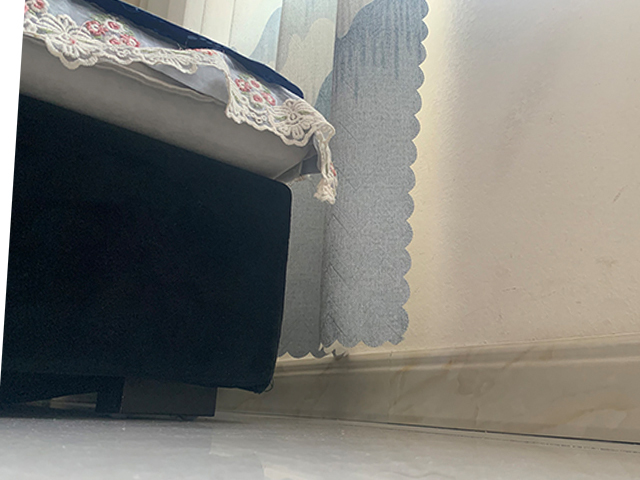curtain: (143, 1, 429, 357)
sofa: (1, 1, 338, 418)
